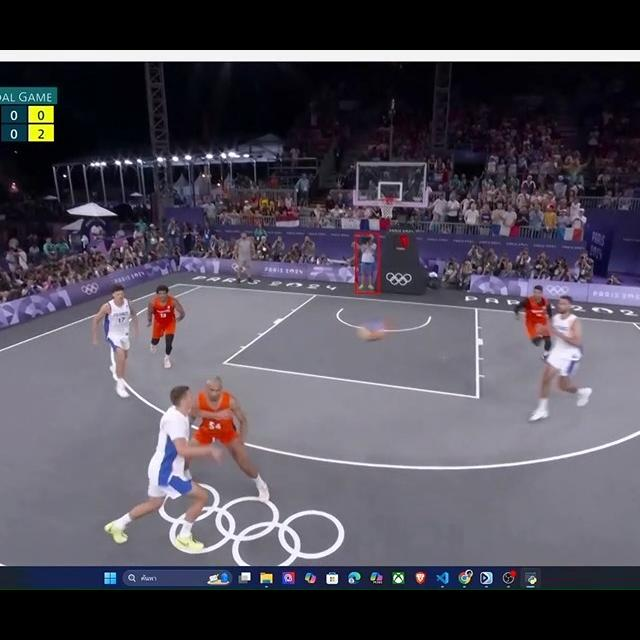basketball: (358, 316, 386, 345)
hoop: (373, 195, 399, 222)
